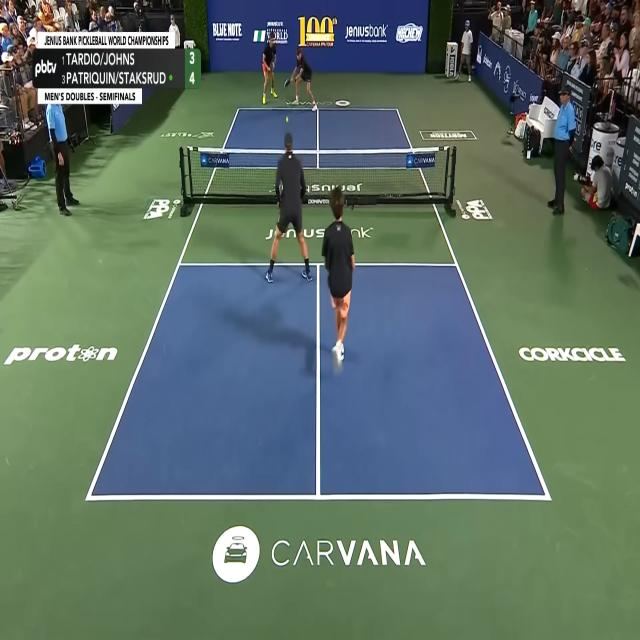ball: (286, 116, 288, 123)
